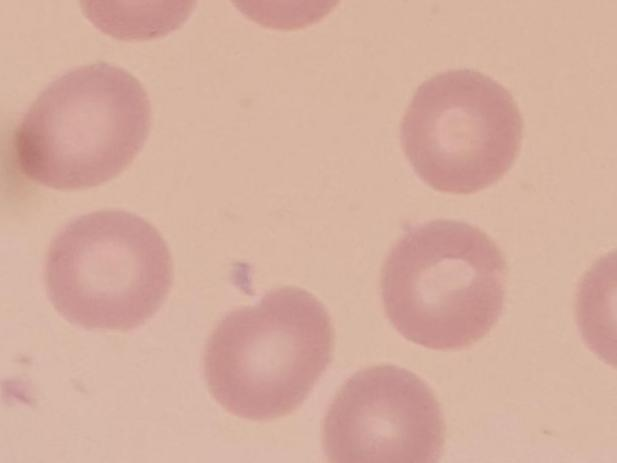Uninfected: (18, 63, 146, 194), (377, 218, 502, 352), (211, 287, 332, 420), (49, 212, 175, 333), (406, 70, 522, 197), (321, 364, 441, 463)
